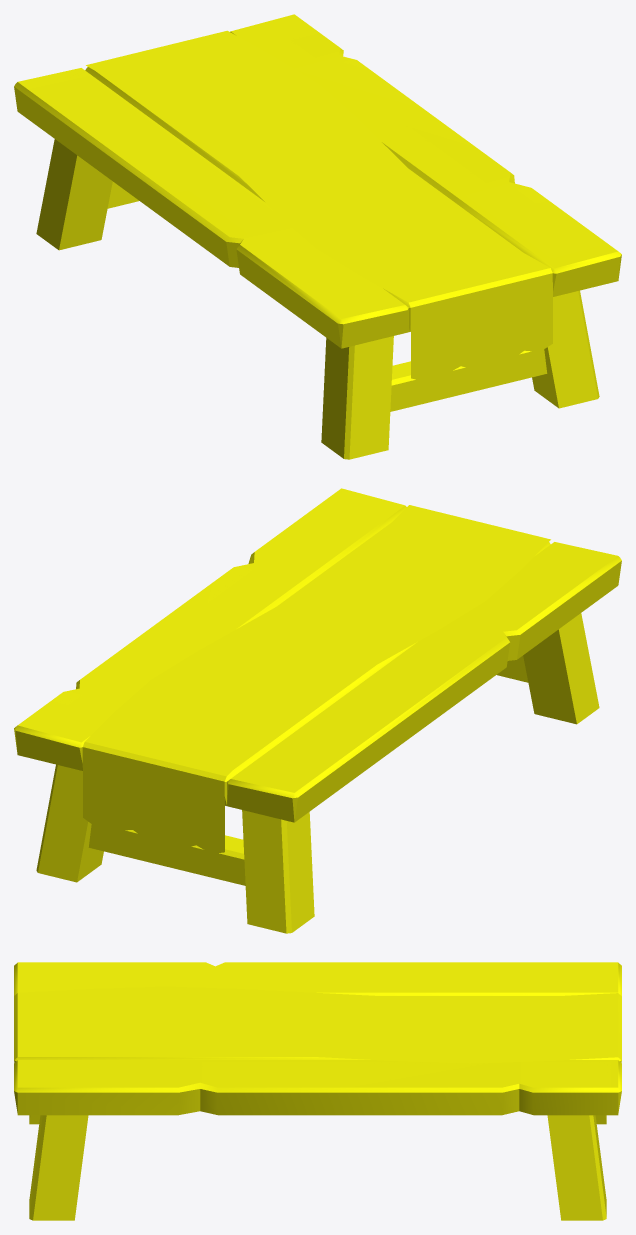
Rendered from kaykit-table-long-tablecloth.glb.
The picture shows the model from 3 angles, top to bottom: view 1: azimuth 30°, elevation 25°; view 2: azimuth 150°, elevation 25°; view 3: azimuth 270°, elevation 25°; orthographic projection. The views are drawn at different scales.
Visible parts, largest first — view 1: table_long_tablecloth; view 2: table_long_tablecloth; view 3: table_long_tablecloth.
Part boxes in pixels (x1,y1,x2,y2): table_long_tablecloth: (14, 14, 621, 459); table_long_tablecloth: (14, 488, 621, 933); table_long_tablecloth: (14, 962, 621, 1220).
Bounding box in the file's own units: 2 × 1 × 4.
